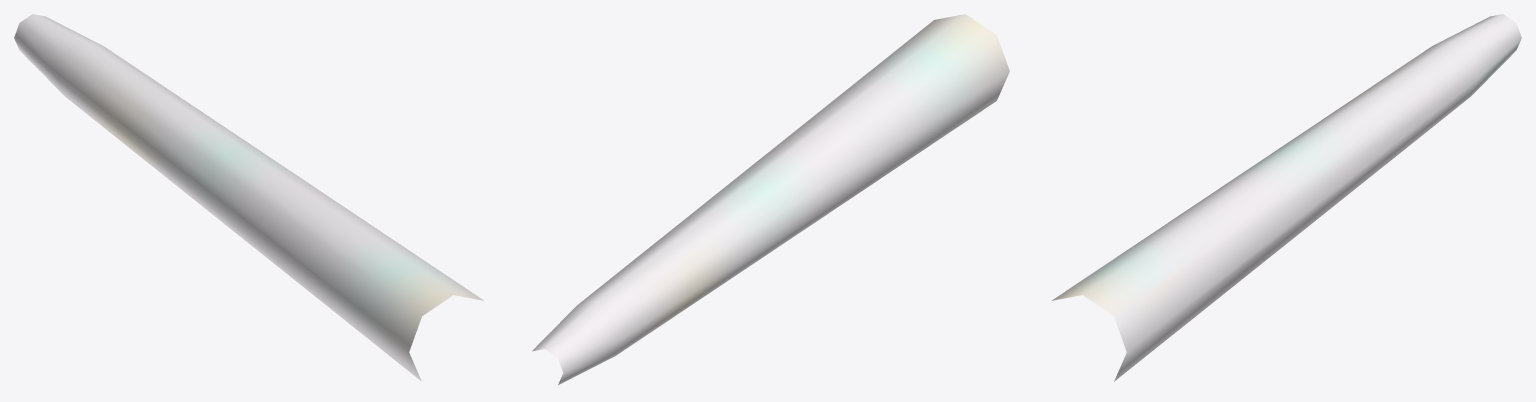
Rendered from 793baa29-be6b-4955-8eea-60d49dab2d5f.glb.
3 views of the same model, side by side, from view 1: azimuth 30°, elevation 25°; view 2: azimuth 150°, elevation 25°; view 3: azimuth 330°, elevation 25° (orthographic).
Visible parts, largest first — view 1: SmokingAccesories01; view 2: SmokingAccesories01; view 3: SmokingAccesories01.
Boxes of the visible parts, left/top/right/bottom form: SmokingAccesories01: left=14, top=14, right=484, bottom=381; SmokingAccesories01: left=532, top=14, right=1009, bottom=384; SmokingAccesories01: left=1051, top=14, right=1521, bottom=381.
Size of what is drawn, in the model's own units: 0.0191 by 0.0191 by 0.1568.
Materials: 1 (1 with a texture image).
